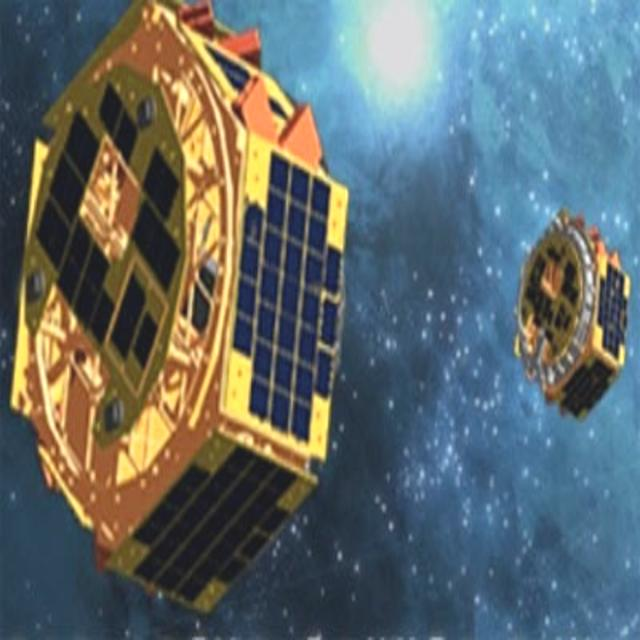medium_debris: (7, 8, 356, 622), (514, 200, 632, 432)
